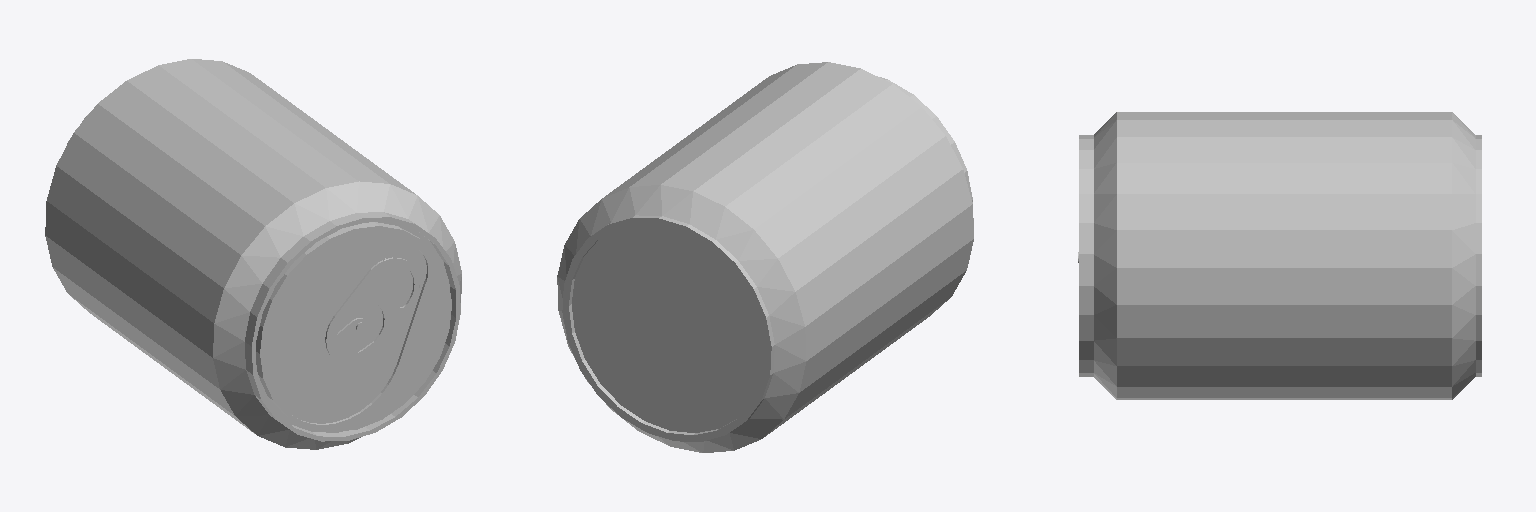
The model's file is model_scale.obj.
3 views of the same model, side by side, from view 1: azimuth 30°, elevation 25°; view 2: azimuth 150°, elevation 25°; view 3: azimuth 270°, elevation 25° (orthographic).
Visible parts, largest first — view 1: mesh1_mesh1-geometry, mesh2_mesh2-geometry; view 2: mesh1_mesh1-geometry; view 3: mesh1_mesh1-geometry.
Boxes of the visible parts, <box> form: mesh1_mesh1-geometry: <box>45,59,461,449</box>; mesh2_mesh2-geometry: <box>325,257,419,365</box>; mesh1_mesh1-geometry: <box>557,62,973,452</box>; mesh1_mesh1-geometry: <box>1079,112,1481,399</box>.
Size of the model in its own units: 0.0731 by 0.0731 by 0.1026.